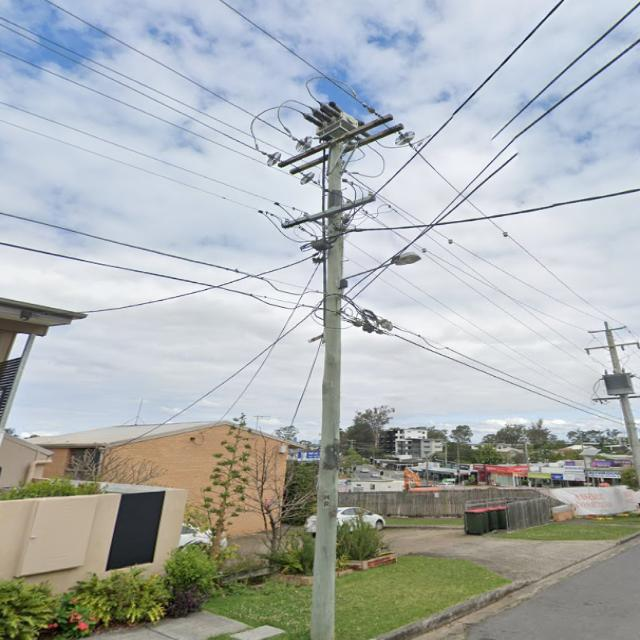HV-switch: (300, 101, 370, 141)
HV-transmission: (255, 101, 416, 185), (583, 320, 640, 355)
crossarm: (277, 114, 395, 168), (289, 122, 404, 175), (282, 194, 376, 228), (584, 342, 639, 350), (588, 326, 628, 333), (591, 395, 640, 400)
streetlight: (339, 252, 422, 280)
timber-pole: (310, 141, 348, 639), (605, 328, 640, 484)
transformer: (603, 368, 635, 395)
